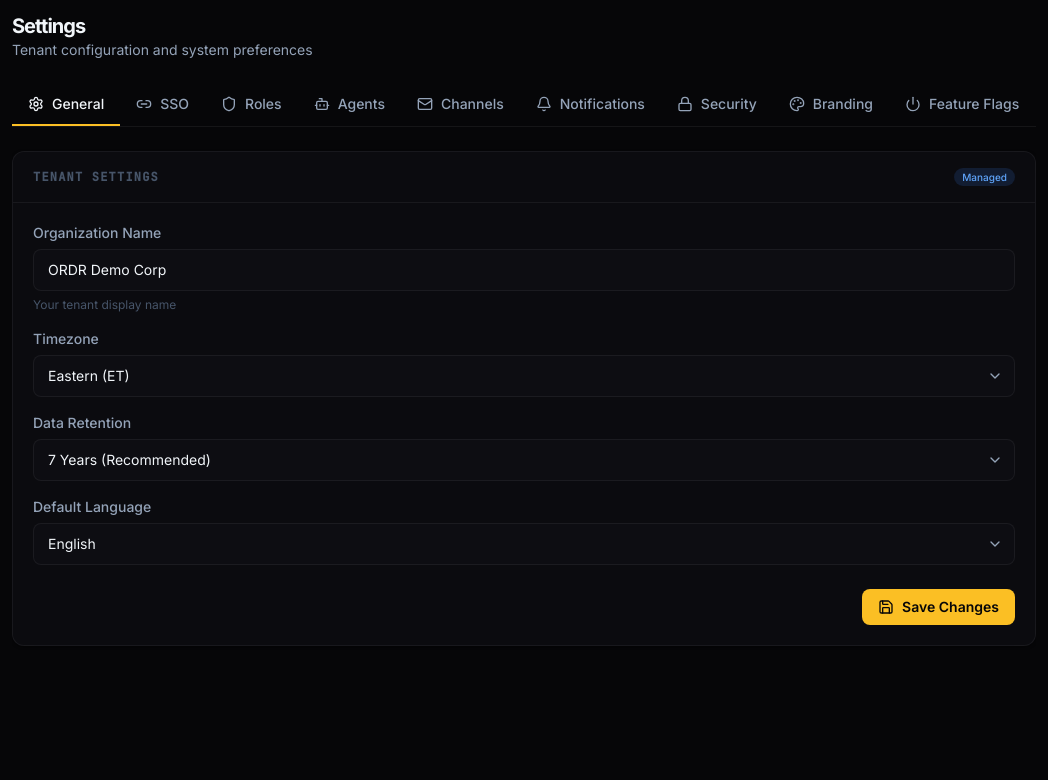
Test: Settings › switching to Channels tab shows Channel Preferences Defaults card
Expected: the tab "General" is shown, [12,84,120,126]
Click the tab "Channels". click: click(460, 104)
box: [401,84,520,124]
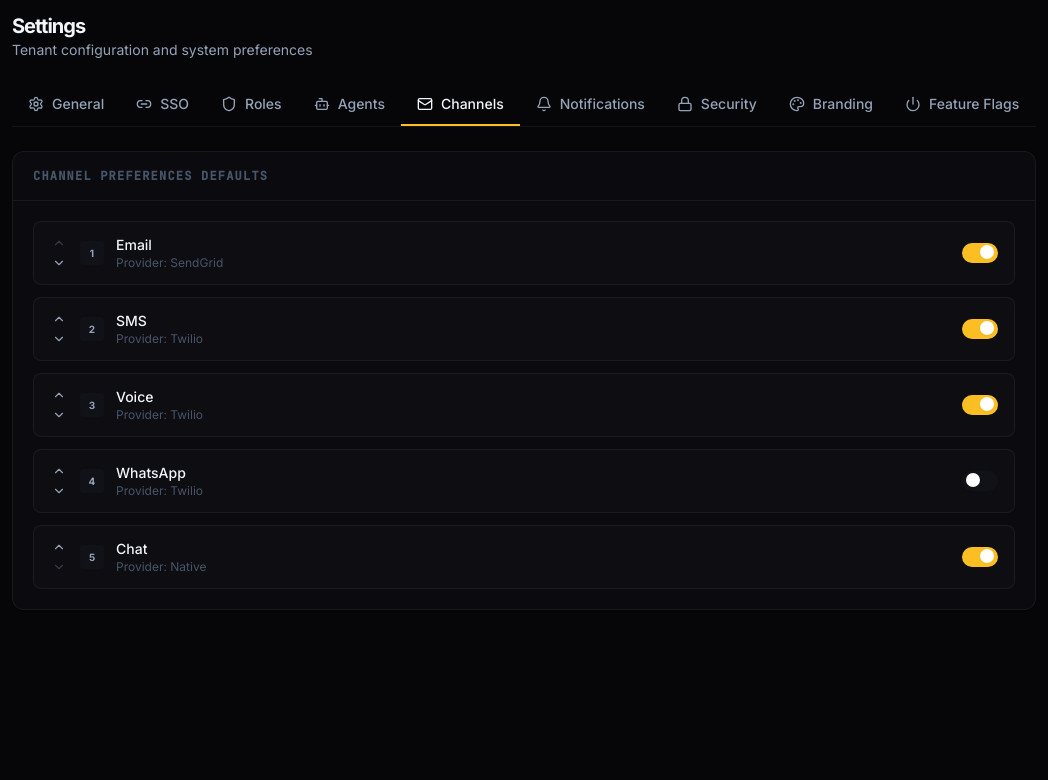
Result: the heading "Channel Preferences Defaults" is shown at [33,168,268,184]
